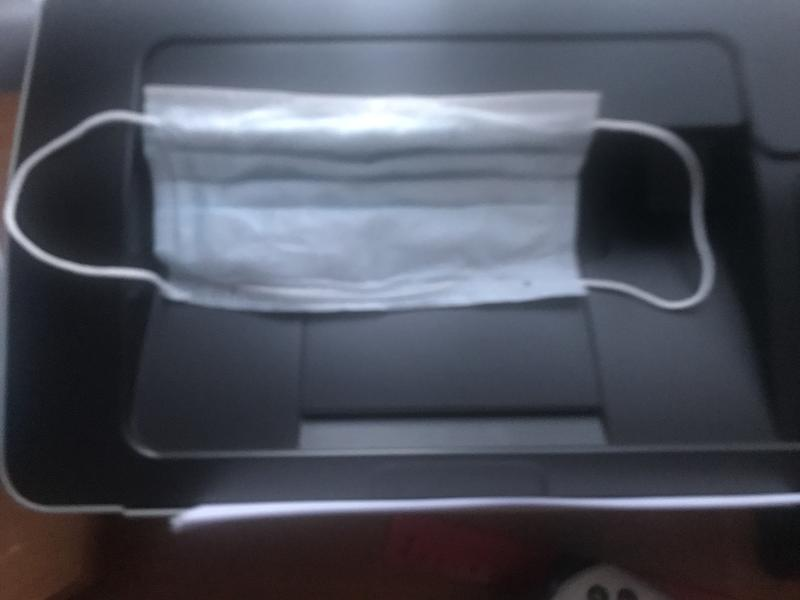medical_mask: (5, 84, 713, 309)
